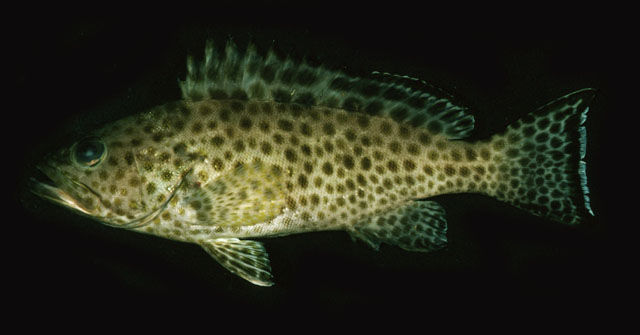fish: (28, 35, 595, 286)
